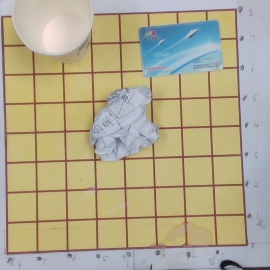card: (138, 19, 223, 75)
cup: (11, 1, 107, 60)
